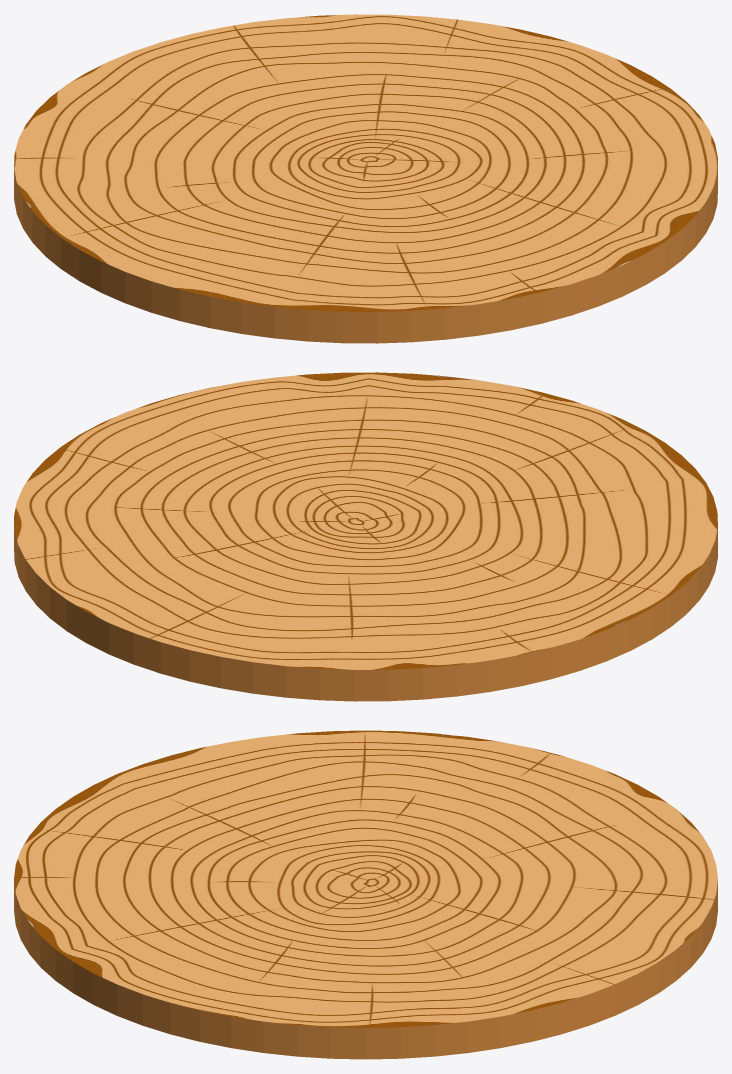
Rendered from Log.fbx.
3 views of the same model, one above another, from view 1: azimuth 30°, elevation 25°; view 2: azimuth 150°, elevation 25°; view 3: azimuth 270°, elevation 25° (orthographic).
Parts seen in each view (by area): view 1: Cylinder.001, Cylinder, Cylinder.002; view 2: Cylinder.001, Cylinder, Cylinder.002; view 3: Cylinder.001, Cylinder, Cylinder.002.
Part boxes in pixels (box(x1,y1,x2,y2)): Cylinder.001: box(14, 14, 670, 242); Cylinder: box(361, 89, 717, 342); Cylinder.002: box(32, 148, 411, 343); Cylinder.001: box(14, 447, 630, 701); Cylinder: box(61, 372, 644, 530); Cylinder.002: box(337, 430, 717, 650); Cylinder.001: box(366, 733, 717, 1059); Cylinder: box(14, 822, 399, 1059); Cylinder.002: box(41, 730, 434, 884).
Bounding box in the file's own units: 200 × 9.87 × 200.
